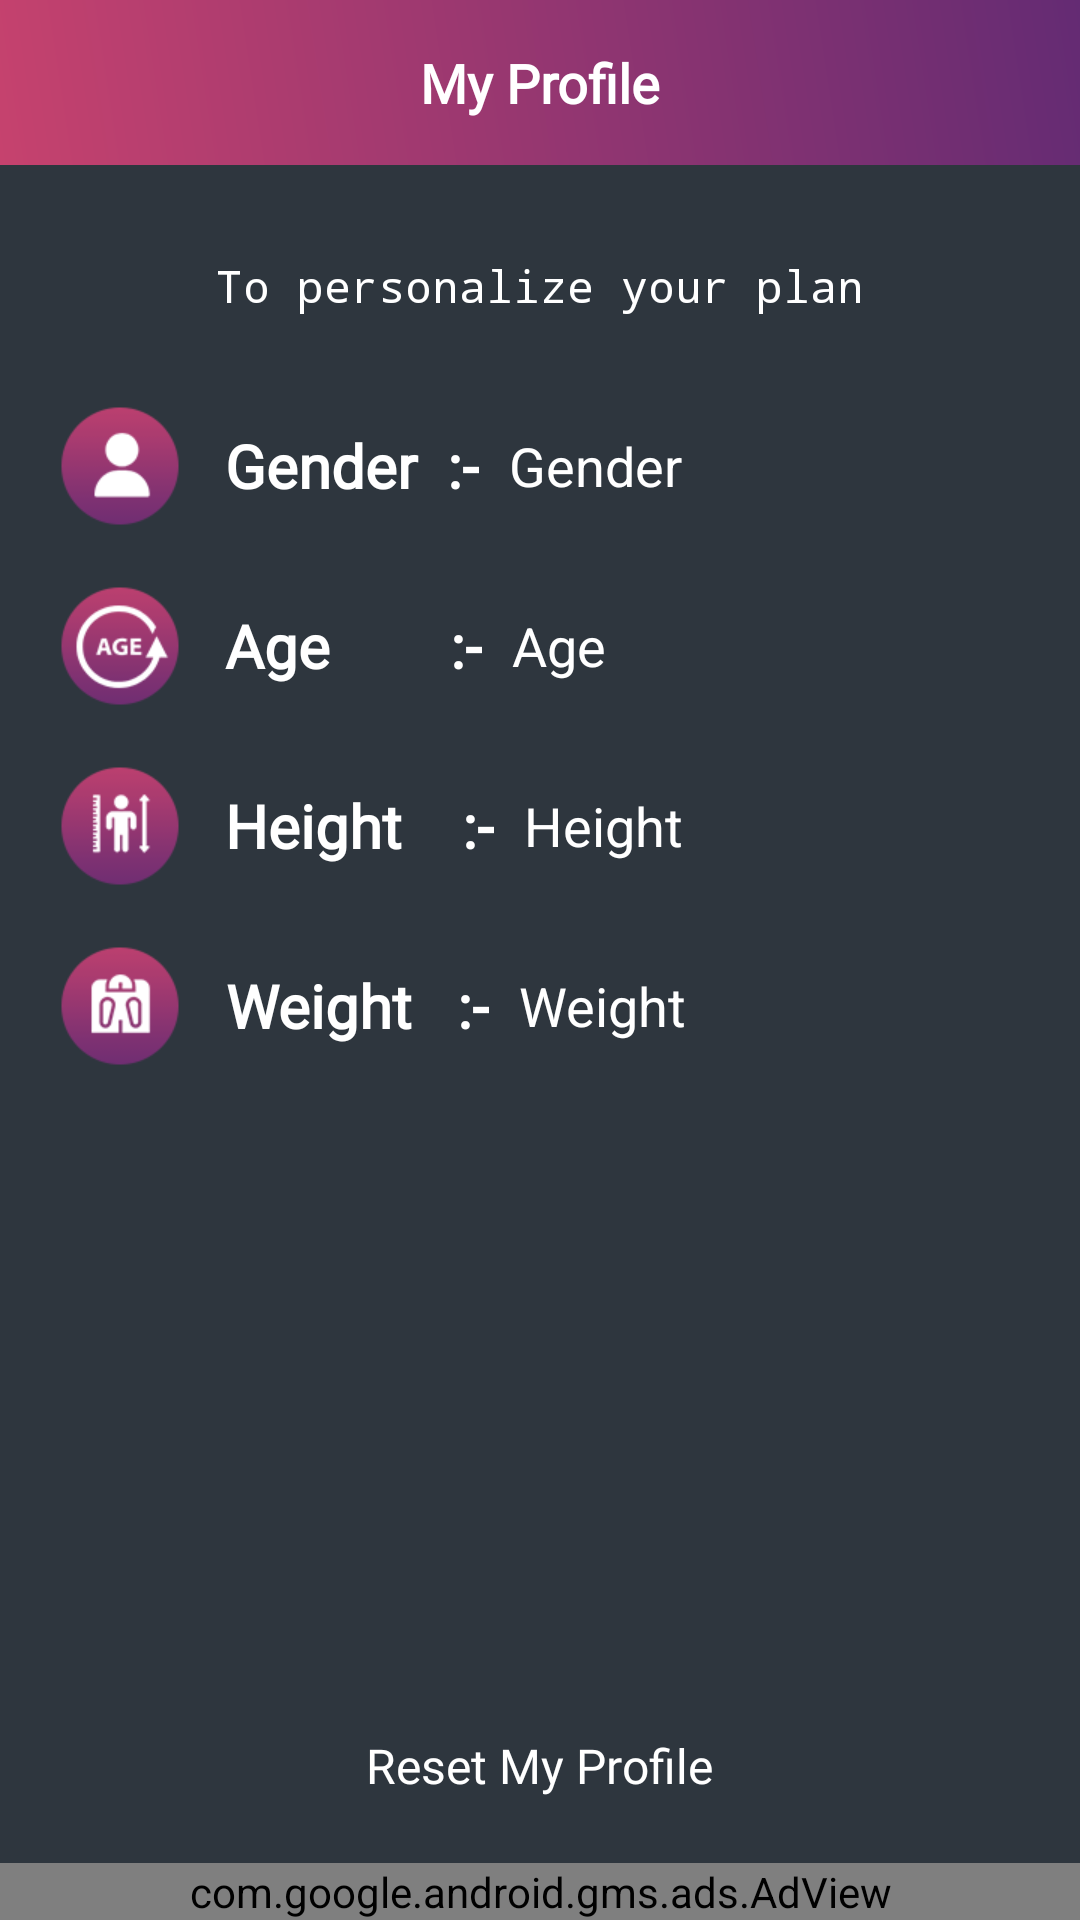

Icon bounding boxes for this 1080 × 1920 phone screenshot, format [x1, y1, x2, y2]:
hight: [61, 767, 179, 885]
user: [61, 407, 179, 525]
